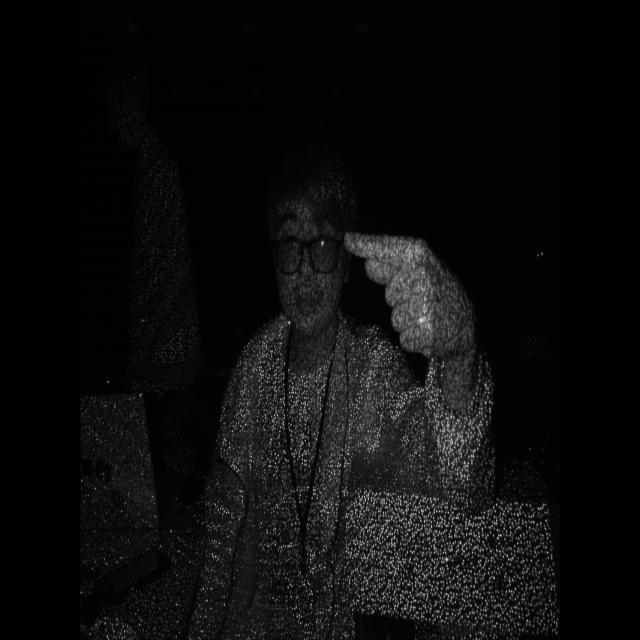G: (342, 197, 498, 392)
